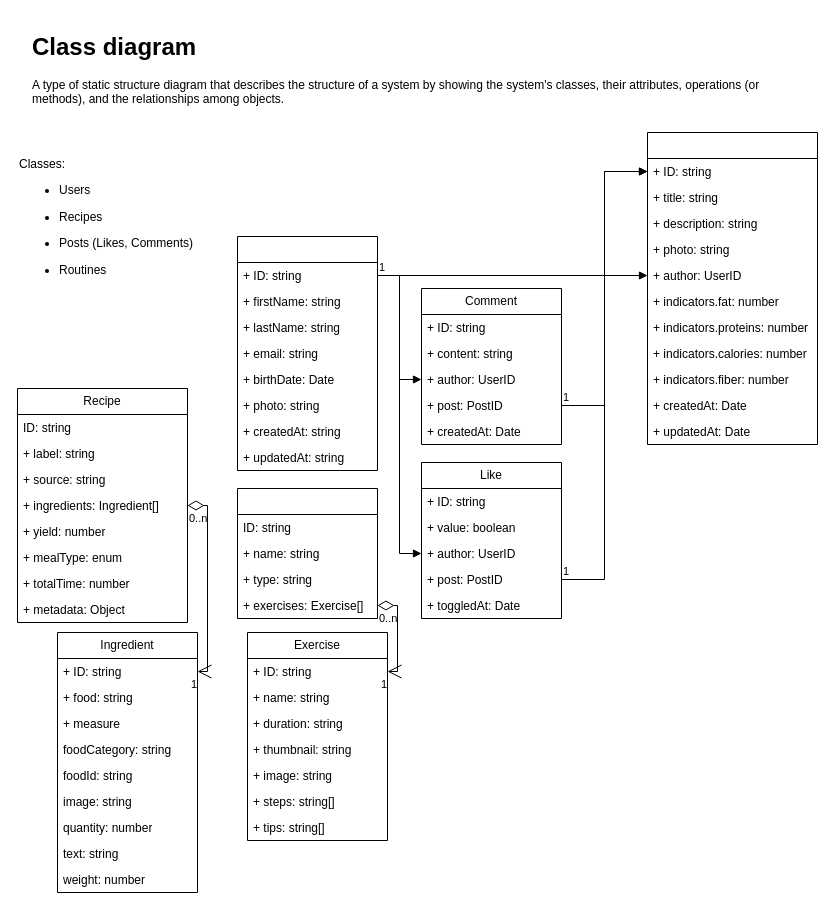
The diagram is 835 pixels wide and 912 high, and some of its shapes have lost their labels. The shapes that lost their labels are listed below. From the top down, each one's box as (x1, y1, x2, y2) in pixels, then its label:
(646, 132, 818, 444): Post
(236, 236, 378, 470): User
(236, 488, 378, 618): Routine
